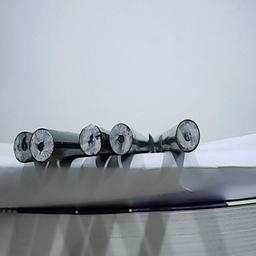pen: (175, 117, 201, 153), (76, 123, 102, 156), (32, 126, 54, 162), (108, 121, 132, 154), (13, 131, 33, 163)
